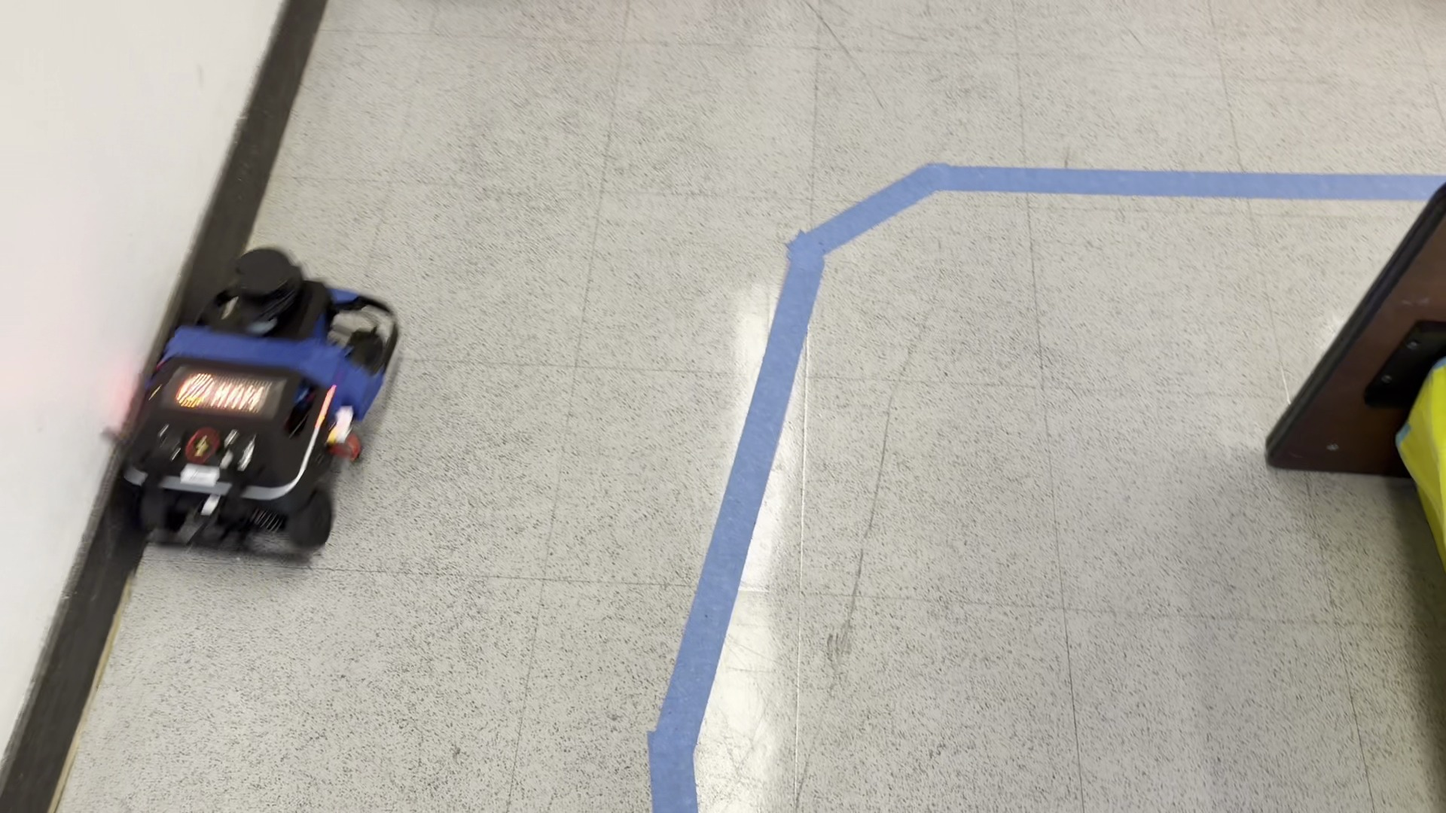racecar: (108, 251, 395, 561)
